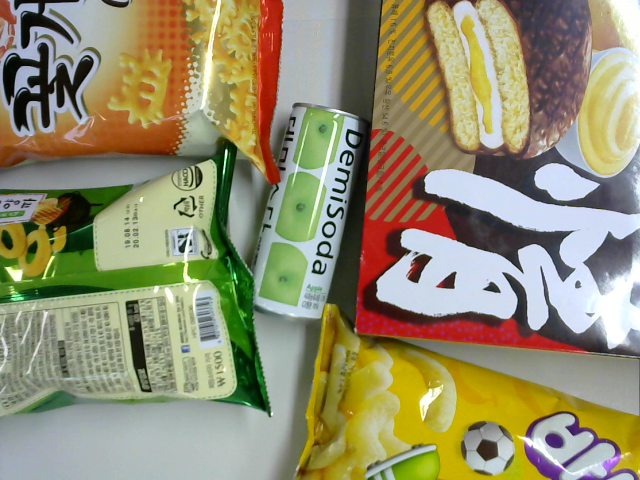Banana_Kick: (293, 300, 640, 479)
Choco_Pie_Banana: (351, 1, 639, 365)
Crabrang: (1, 1, 287, 186)
Demisoda_Apple_Can_250ml: (237, 101, 371, 324)
Grilled_Onions: (1, 135, 278, 426)
